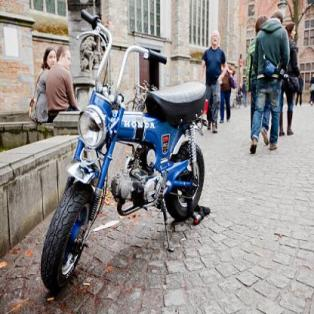Motocicleta: (39, 10, 208, 291)
